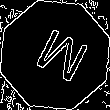M_SW: (23, 22, 87, 88)
